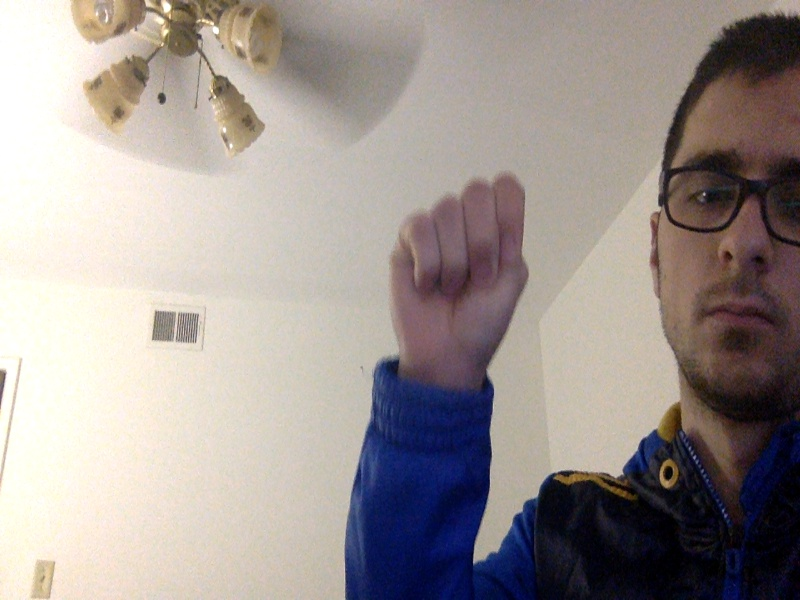0-hand: (388, 173, 530, 365)
